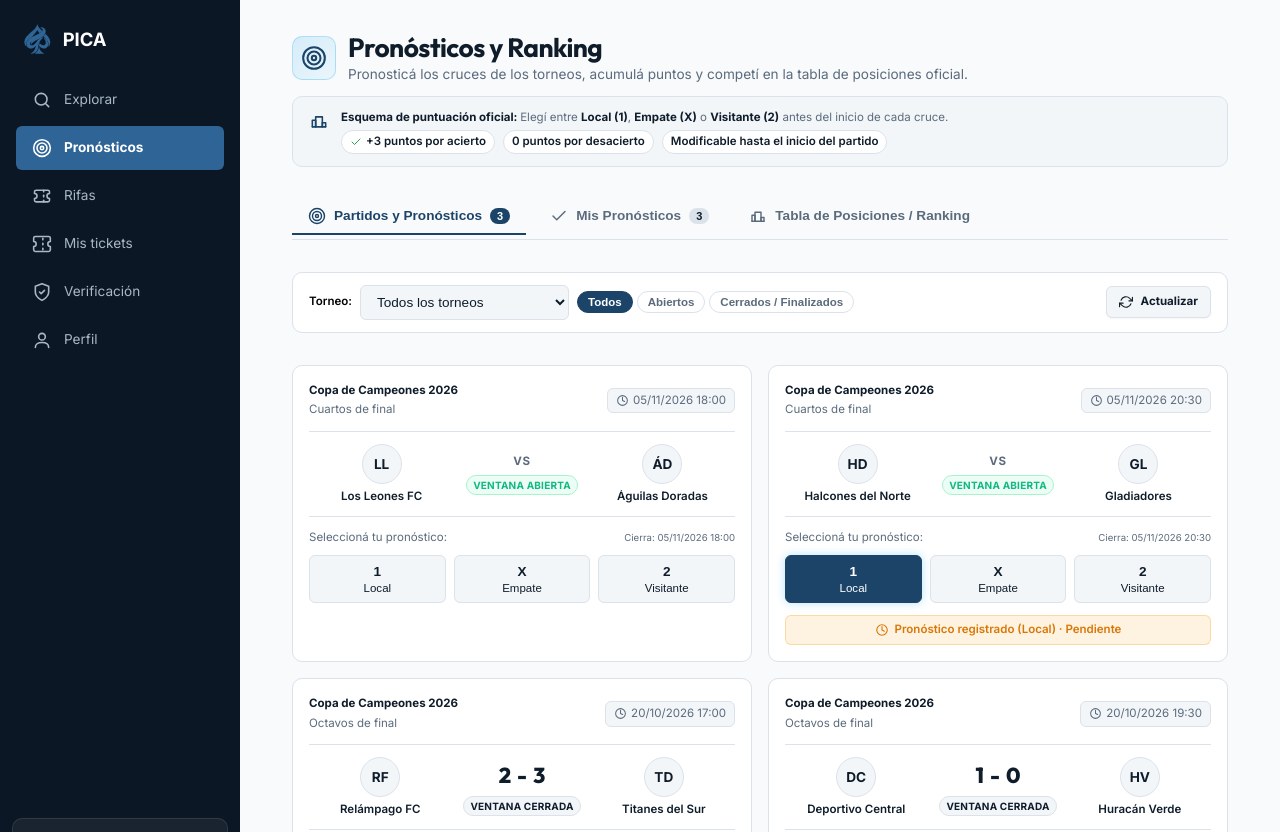
Test: HU-306 / T306-2: Pronósticos y ranking › permite modificar un pronóstico mientras la ventana esté abierta
The image size is (1280, 832).
// Cambiar a Empate ('X')
Click the button with aria-label "pronosticar empate" at (998, 579), box [930, 555, 1066, 603]
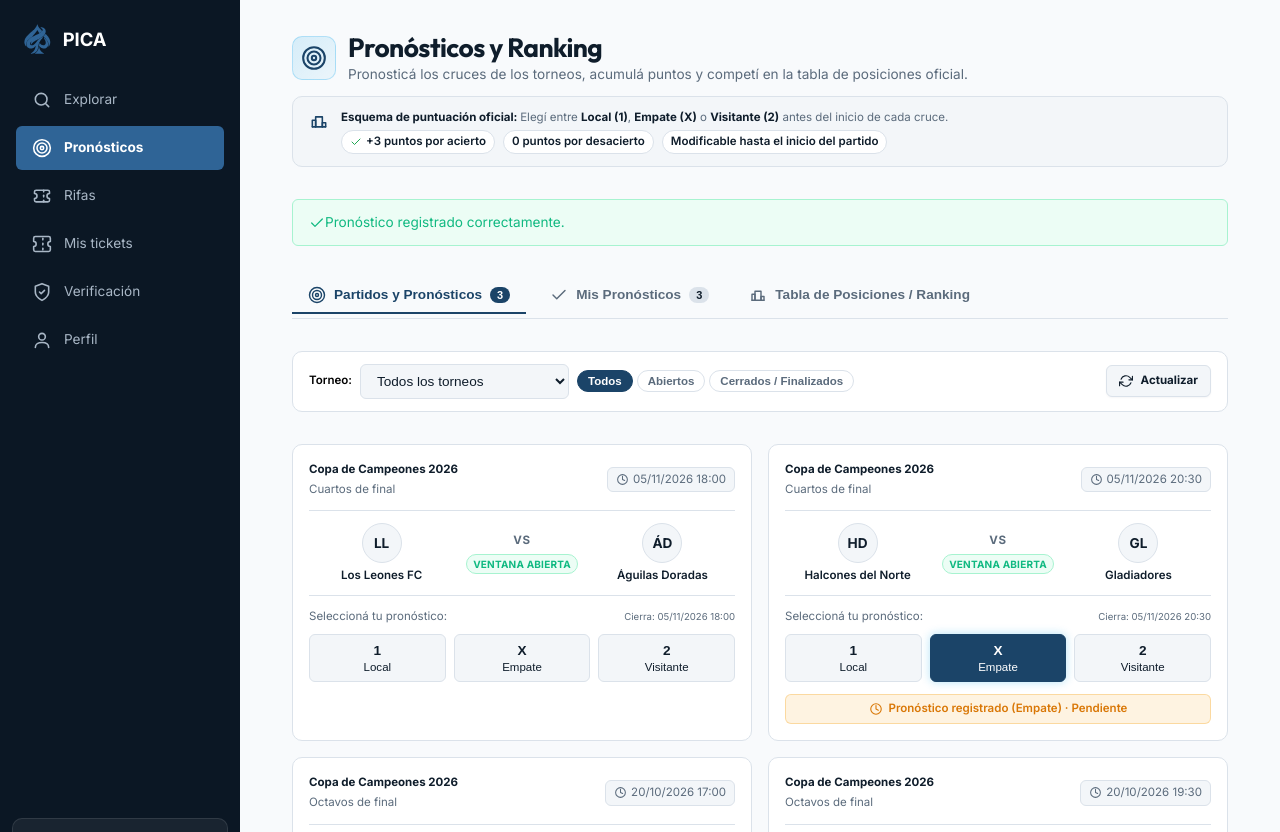
Result: the text "Pronóstico registrado (Empate) · Pendiente" is shown at [889, 700, 1128, 718]
